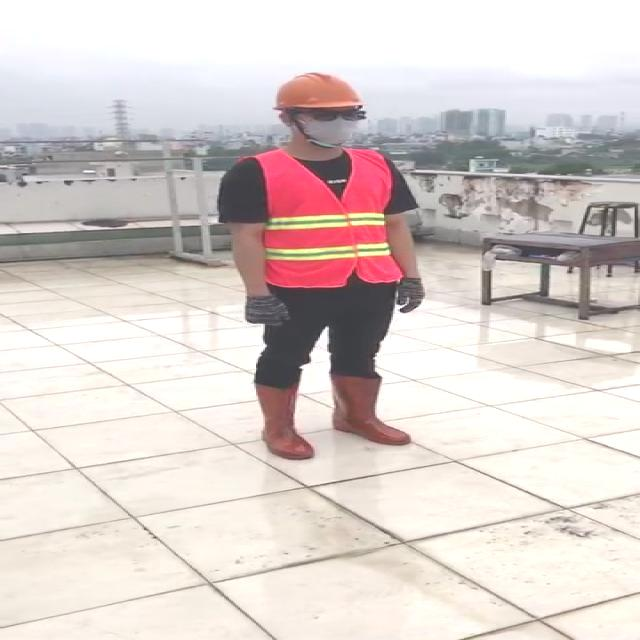boots: (328, 369, 419, 447), (252, 378, 318, 460)
helmet: (270, 71, 358, 110)
vest: (247, 150, 404, 287)
